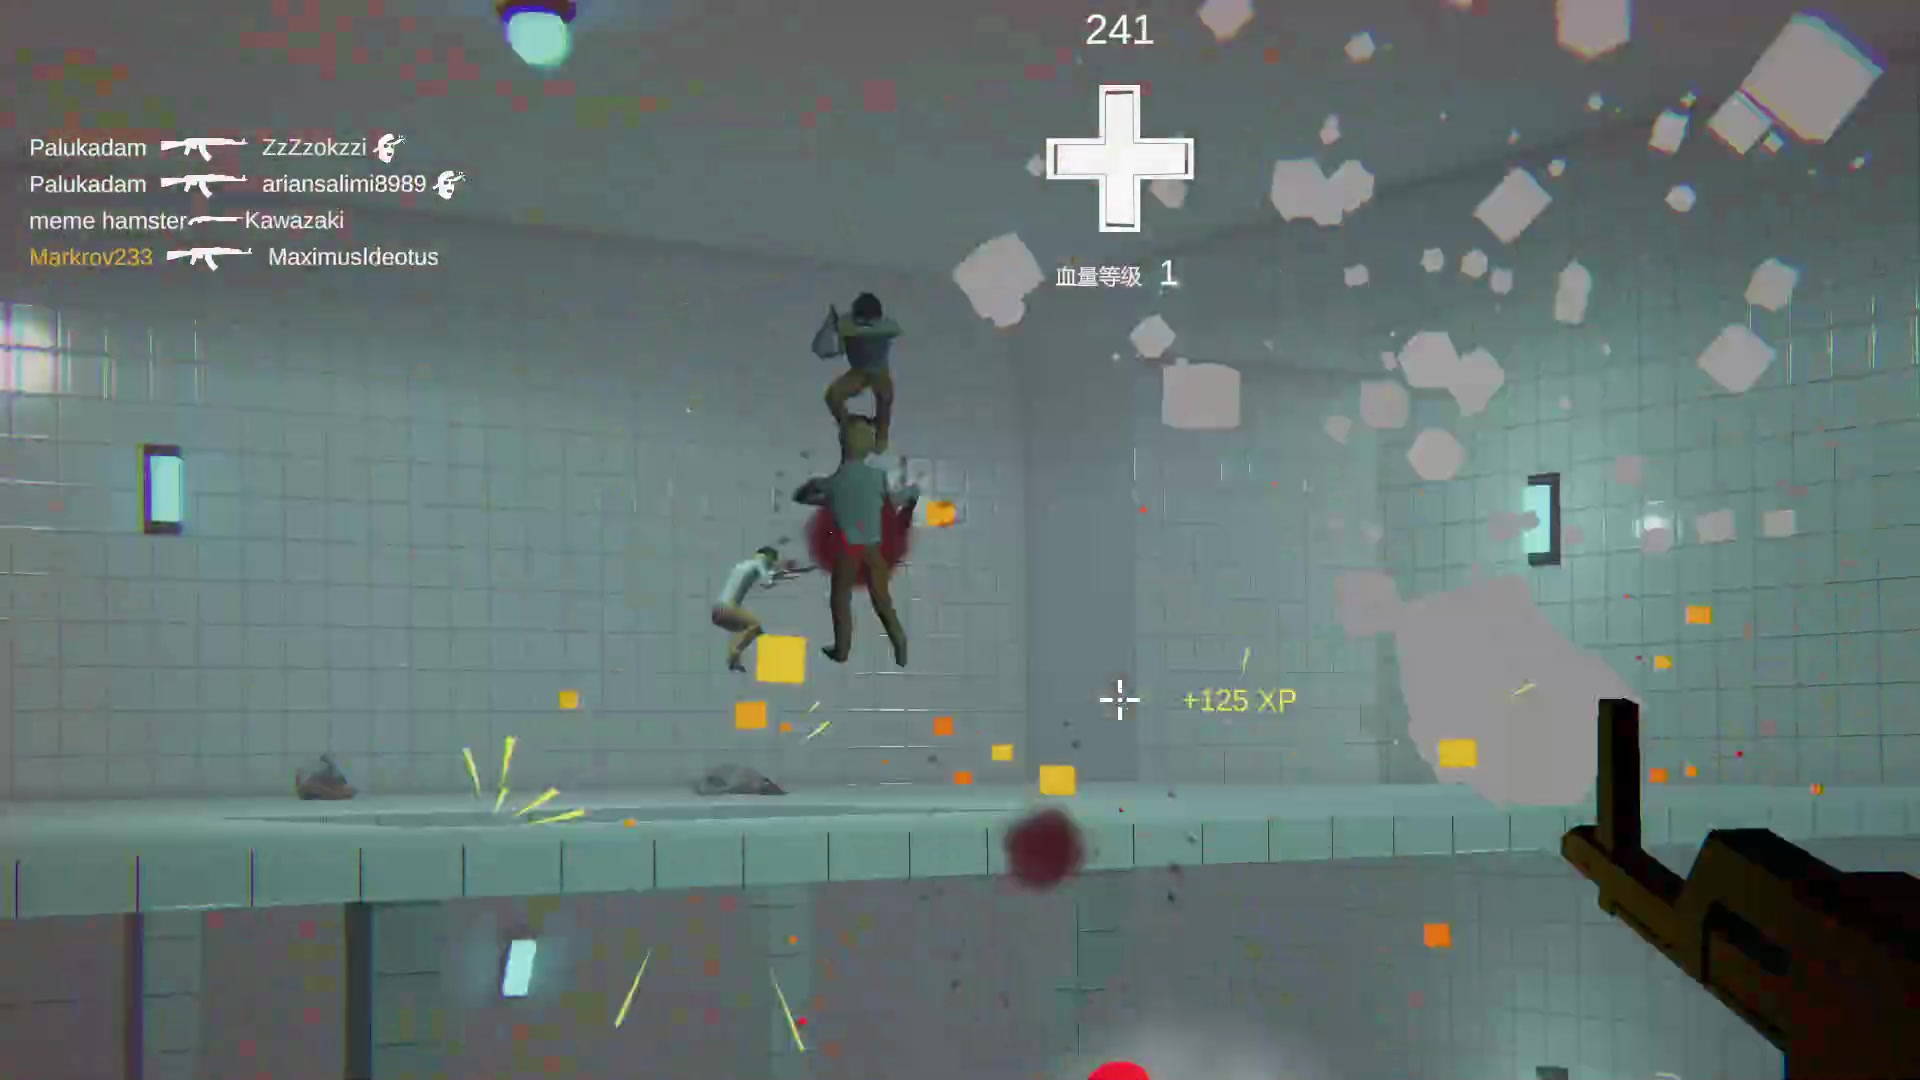human: (819, 430, 913, 653), (819, 279, 913, 438), (706, 519, 779, 669)
